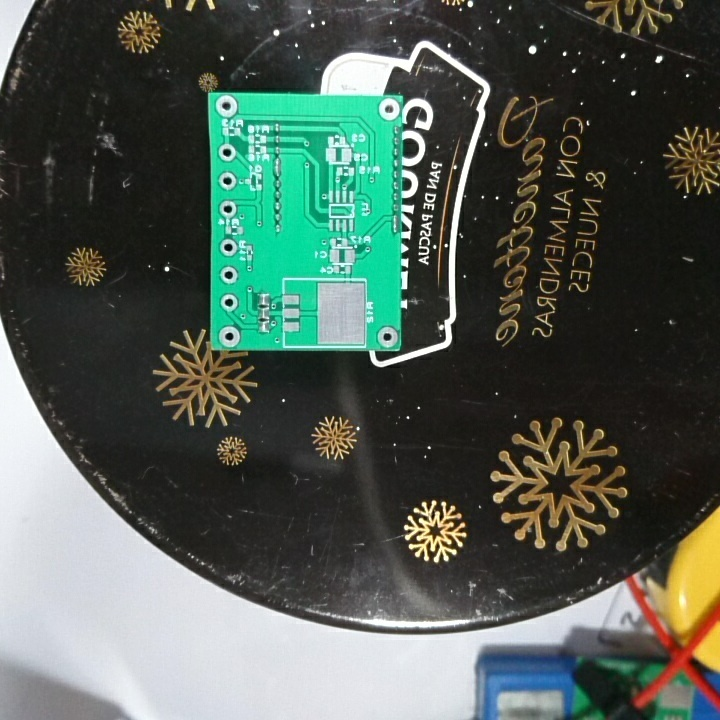F: (377, 95, 401, 123), (217, 323, 242, 349), (213, 95, 239, 120), (375, 326, 400, 349), (217, 263, 240, 288), (217, 169, 239, 195), (216, 236, 239, 260), (218, 292, 241, 313), (215, 142, 238, 163), (218, 198, 239, 220)
P: (389, 212, 401, 236), (271, 155, 283, 179)
